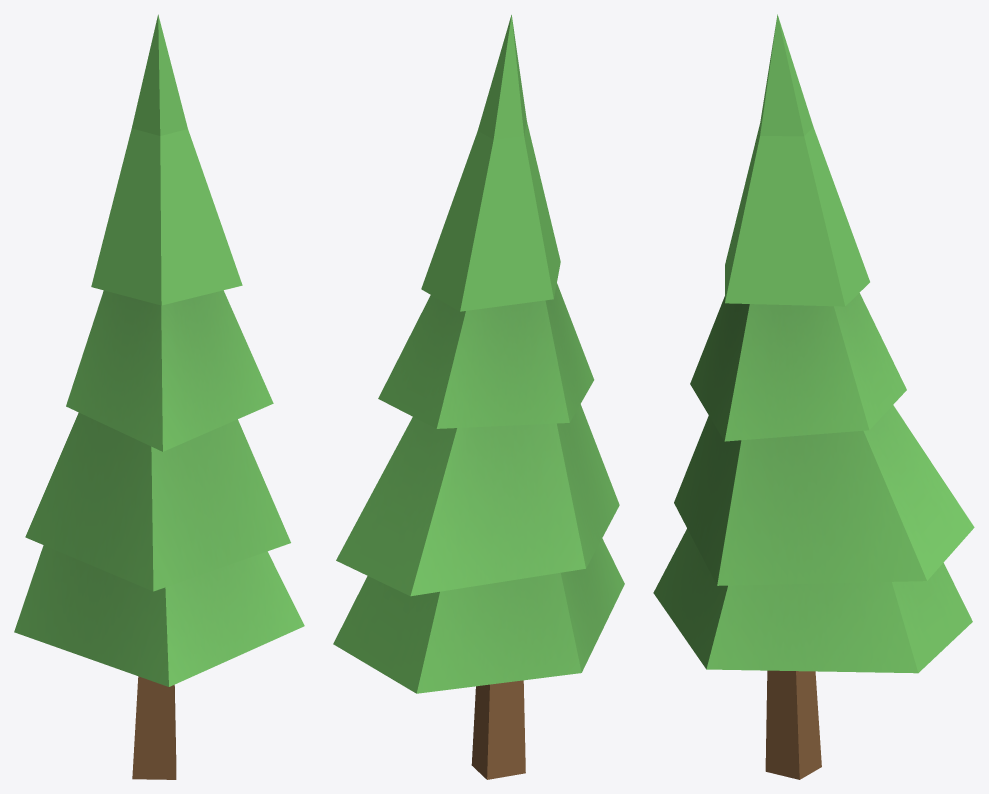
Rendered from Fir_Tree_OneSided_m_09_LOD.fbx.
3 renders of one model, left to right at view 1: azimuth 30°, elevation 25°; view 2: azimuth 150°, elevation 25°; view 3: azimuth 270°, elevation 25°, orthographic.
Visible parts, largest first — view 1: Fir_Tree_OneSided_m_09_LOD0; view 2: Fir_Tree_OneSided_m_09_LOD0; view 3: Fir_Tree_OneSided_m_09_LOD0.
Part boxes in pixels (x1,y1,x2,y2): Fir_Tree_OneSided_m_09_LOD0: [14, 14, 304, 779]; Fir_Tree_OneSided_m_09_LOD0: [333, 15, 624, 779]; Fir_Tree_OneSided_m_09_LOD0: [653, 14, 974, 779].
Size of what is drawn, in the model's own units: 137 by 459 by 178.
